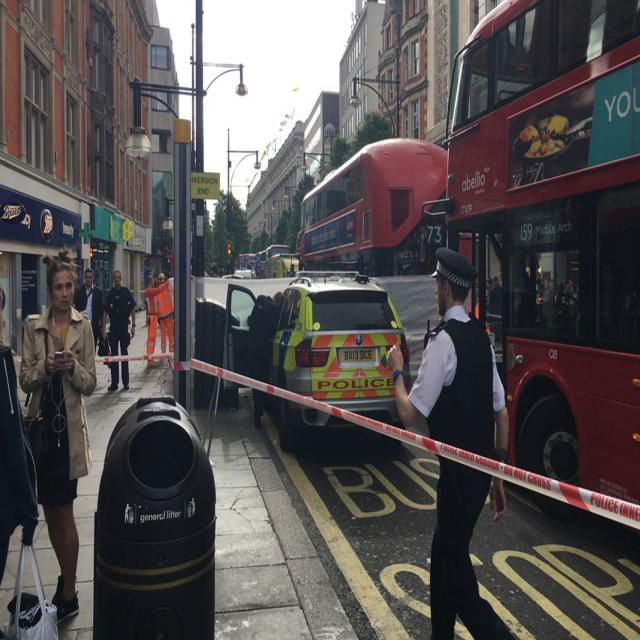body: (384, 245, 529, 639), (15, 243, 98, 632), (473, 265, 640, 355), (0, 287, 41, 637), (246, 289, 285, 430), (100, 269, 137, 392), (202, 243, 305, 284), (73, 267, 104, 356), (143, 273, 171, 369), (154, 271, 175, 354)
